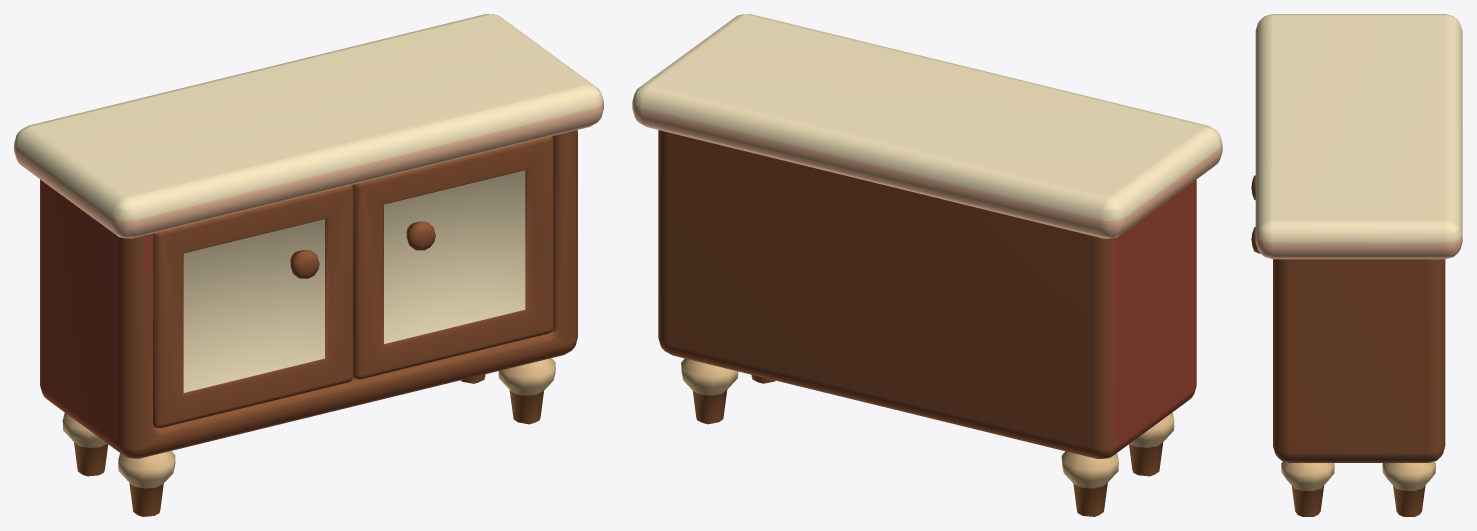
Rendered from aparador_natal_duas_portas_pacote.glb.
3 views of the same model, side by side, from view 1: azimuth 30°, elevation 25°; view 2: azimuth 150°, elevation 25°; view 3: azimuth 270°, elevation 25° (orthographic). The views are drawn at different scales.
Parts seen in each view (by area): view 1: aparador_natal_duas_portas_pacote, porta_2, porta_1; view 2: aparador_natal_duas_portas_pacote; view 3: aparador_natal_duas_portas_pacote.
Boxes of the visible parts, x1=… form: aparador_natal_duas_portas_pacote: x1=14, y1=14, x2=603, y2=516; porta_2: x1=352, y1=136, x2=553, y2=379; porta_1: x1=153, y1=185, x2=353, y2=427; aparador_natal_duas_portas_pacote: x1=632, y1=14, x2=1222, y2=516; aparador_natal_duas_portas_pacote: x1=1255, y1=14, x2=1462, y2=516.
Size of the model in its own units: 1.2 by 0.7966 by 0.4898.
Materials: 1 (1 with a texture image).
